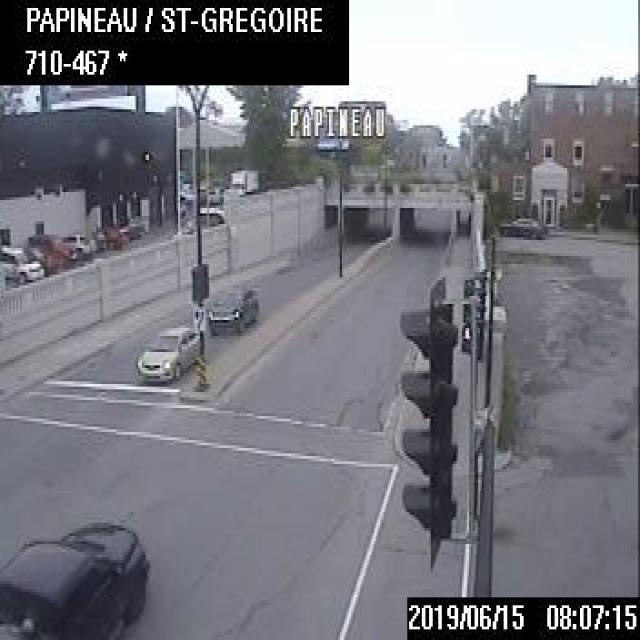vehicle: (0, 517, 145, 637), (135, 320, 198, 381), (204, 283, 256, 333), (496, 212, 546, 243), (1, 244, 44, 279), (27, 232, 66, 270), (20, 244, 56, 272), (229, 168, 259, 197), (63, 232, 94, 258)
